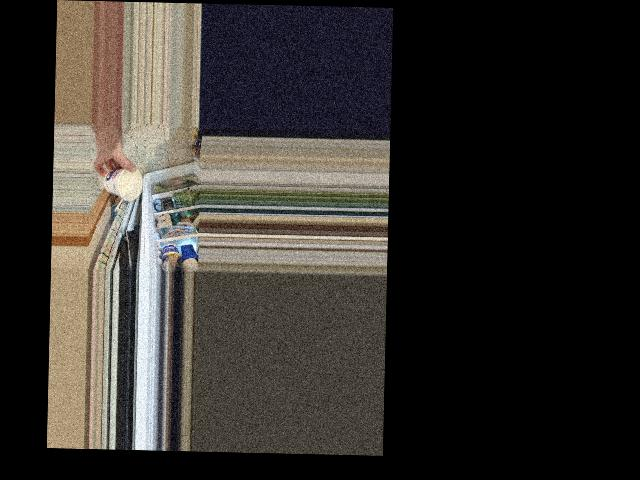cotage: (104, 167, 142, 198)
